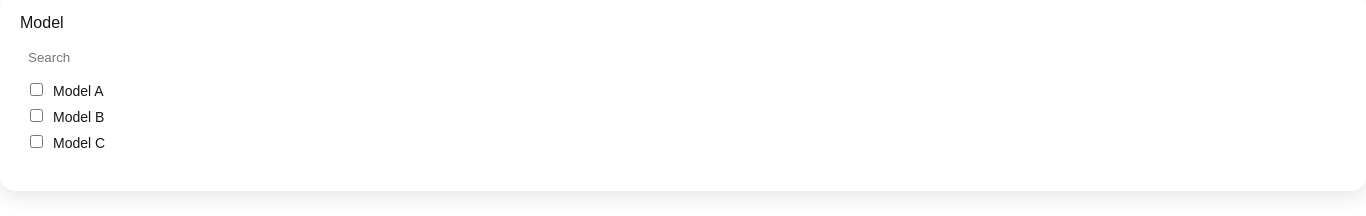
Test: ModelFilter Component › filters models based on search input
In the field with placeholder "Search": (683, 58) [20,42,1346,73], type "Model A"
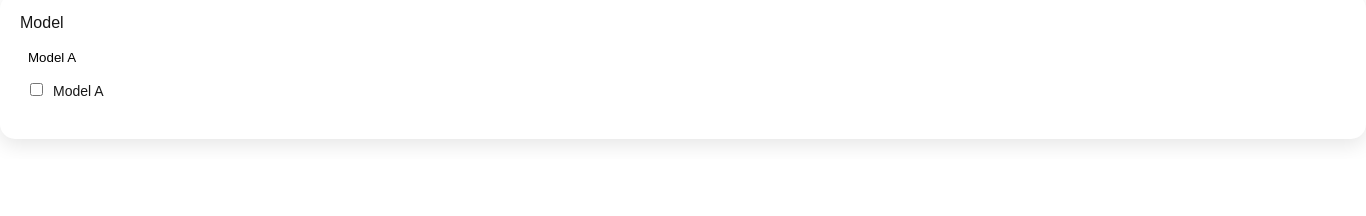
expect the text "Model A" is shown: met, box [30,83,104,99]
expect the text "Model B" is gone: met
expect the text "Model C" is gone: met
